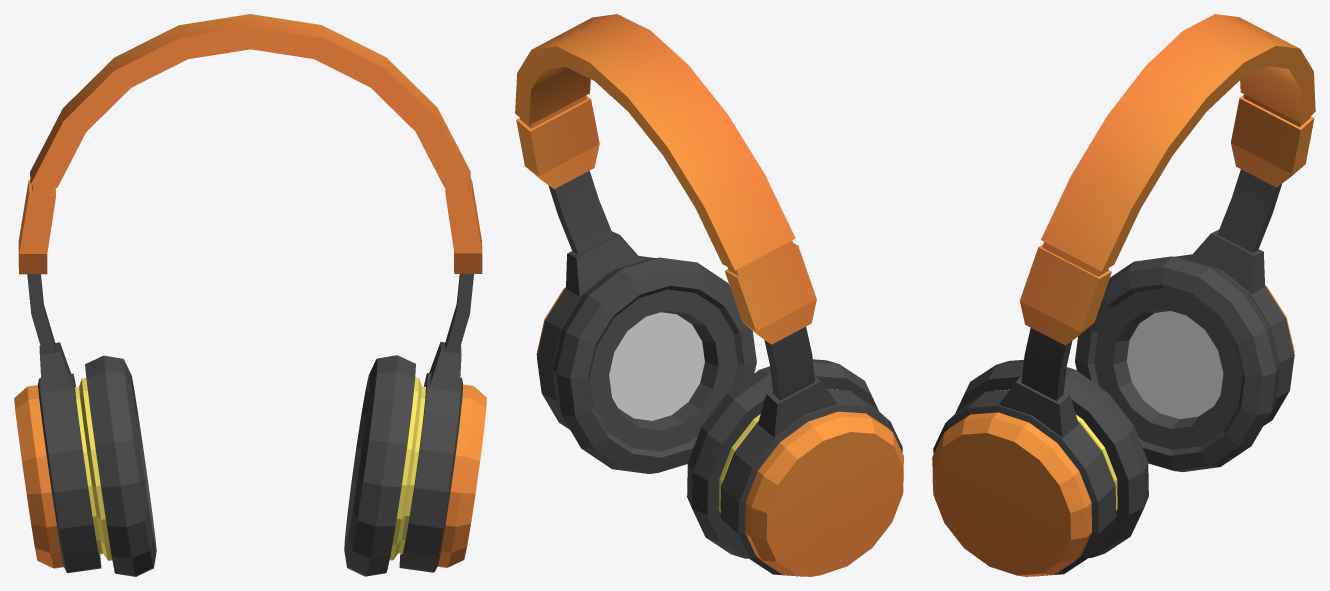
The model's file is Headphones.fbx.
3 renders of one model, left to right at view 1: azimuth 30°, elevation 25°; view 2: azimuth 150°, elevation 25°; view 3: azimuth 270°, elevation 25°, orthographic.
Visible parts, largest first — view 1: pCylinder15, pCylinder14, pCylinder16, pPlane8, pCube121, pPlane9, pCube122; view 2: pCylinder14, pCylinder15, pCylinder16, pPlane8, pPlane9, pCube121, pCube122; view 3: pCylinder14, pCylinder16, pCylinder15, pPlane9, pPlane8, pCube122, pCube121.
Boxes of the visible parts, x1,y1,x2,y2 form: pCylinder15: (344, 355, 486, 576); pCylinder14: (18, 14, 482, 274); pCylinder16: (14, 355, 156, 576); pPlane8: (445, 274, 473, 353); pCube121: (429, 342, 461, 391); pPlane9: (27, 274, 55, 353); pCube122: (39, 342, 72, 392); pCylinder14: (515, 14, 816, 344); pCylinder15: (536, 256, 756, 473); pCylinder16: (687, 359, 903, 576); pPlane8: (548, 171, 613, 254); pPlane9: (764, 326, 814, 400); pCube121: (566, 231, 642, 296); pCube122: (758, 375, 837, 437); pCylinder14: (1020, 14, 1315, 345); pCylinder16: (1075, 254, 1294, 471); pCylinder15: (932, 359, 1148, 576); pPlane9: (1217, 169, 1281, 252); pPlane8: (1021, 328, 1072, 400); pCube122: (1188, 229, 1264, 294); pCube121: (999, 376, 1078, 437).
Bounding box in the file's own units: 1.63 × 1.88 × 1.31.
1 material, 1 textured.
